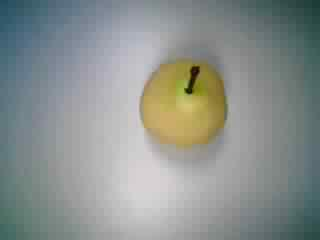pear: (136, 52, 235, 155)
